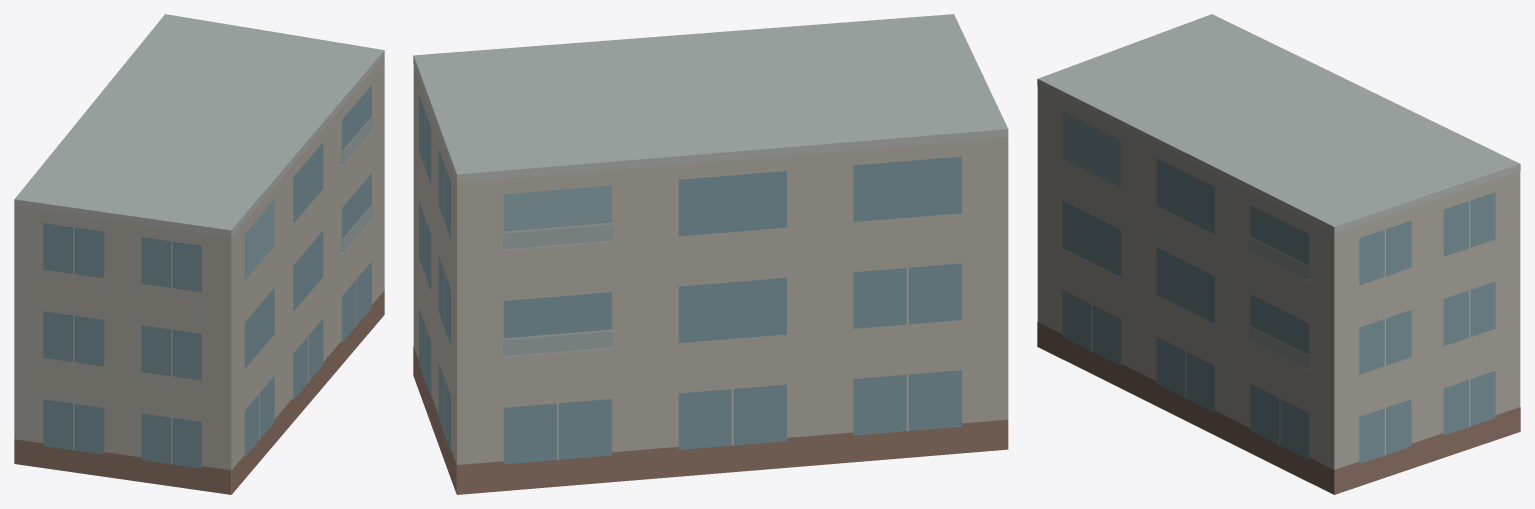
The model's file is survey-upis-32917333.glb.
The picture shows the model from 3 angles, left to right: view 1: azimuth 30°, elevation 25°; view 2: azimuth 150°, elevation 25°; view 3: azimuth 270°, elevation 25°; orthographic projection. The views are drawn at different scales.
Visible parts, largest first — view 1: survey-upis-32917333.tmp; view 2: survey-upis-32917333.tmp; view 3: survey-upis-32917333.tmp.
Part boxes in pixels (<box>): survey-upis-32917333.tmp: <box>14,14,384,494</box>; survey-upis-32917333.tmp: <box>413,14,1008,494</box>; survey-upis-32917333.tmp: <box>1037,14,1520,494</box>.
Bounding box in the file's own units: 15.6 × 9.15 × 14.95.
